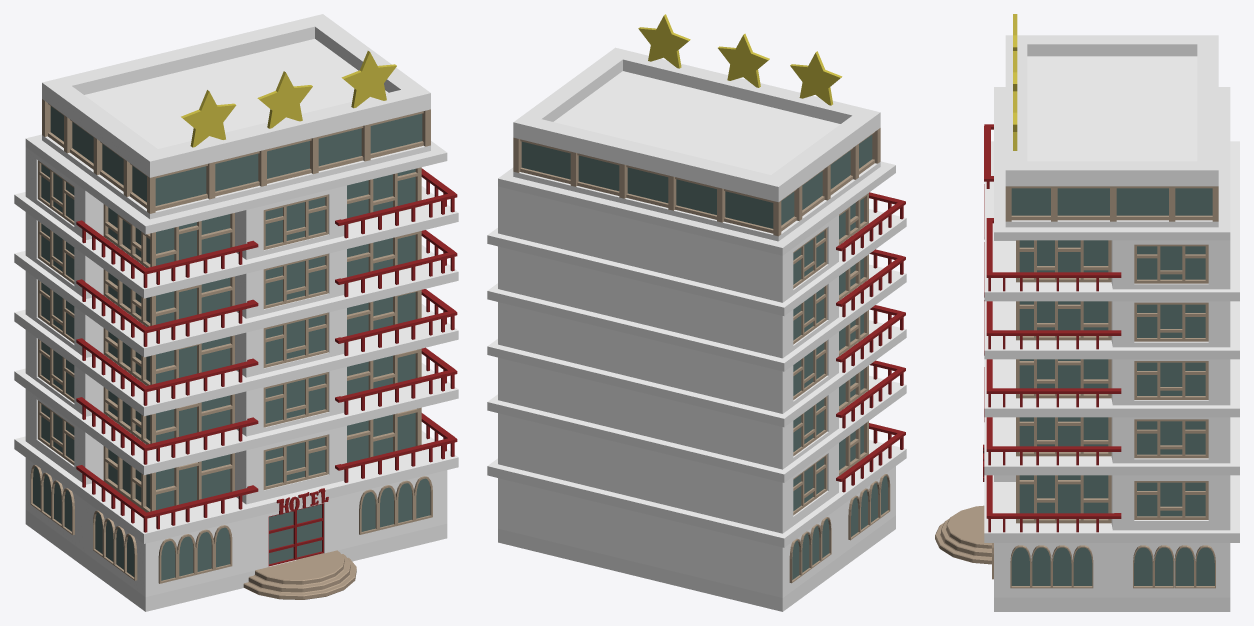
The model's file is building.gltf.
The picture shows the model from 3 angles, left to right: view 1: azimuth 30°, elevation 25°; view 2: azimuth 150°, elevation 25°; view 3: azimuth 270°, elevation 25°; orthographic projection. The views are drawn at different scales.
Visible parts, largest first — view 1: Cube049_1, Cube049_3, Cube049_2, Cube049_4, Cube049, Cube049_5; view 2: Cube049_1, Cube049_2, Cube049_3, Cube049_4, Cube049, Cube049_5; view 3: Cube049_1, Cube049_3, Cube049_2, Cube049_4, Cube049, Cube049_5.
Part boxes in pixels (x1,y1,x2,y2): Cube049_1: (14, 26, 458, 597); Cube049_3: (33, 106, 430, 580); Cube049_2: (14, 14, 458, 611); Cube049_4: (30, 99, 432, 599); Cube049: (76, 168, 457, 566); Cube049_5: (181, 51, 396, 147); Cube049_1: (487, 59, 906, 597); Cube049_2: (487, 47, 906, 611); Cube049_3: (521, 135, 887, 579); Cube049_4: (513, 128, 890, 583); Cube049: (836, 192, 905, 492); Cube049_5: (638, 14, 842, 105); Cube049_1: (984, 44, 1239, 597); Cube049_3: (1011, 188, 1214, 585); Cube049_2: (984, 35, 1239, 611); Cube049_4: (935, 186, 1218, 588); Cube049: (983, 124, 1121, 532); Cube049_5: (1013, 14, 1017, 150).
Bounding box in the file's own units: 2.9 × 4.37 × 2.47.
